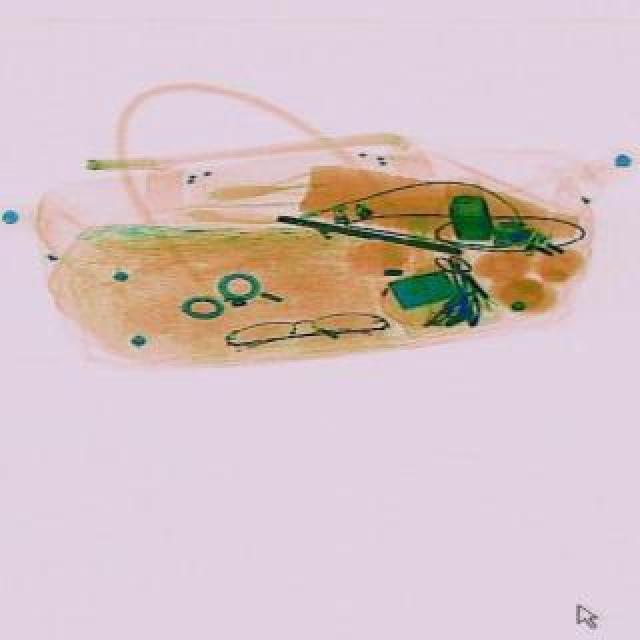pliers: (426, 244, 492, 308)
